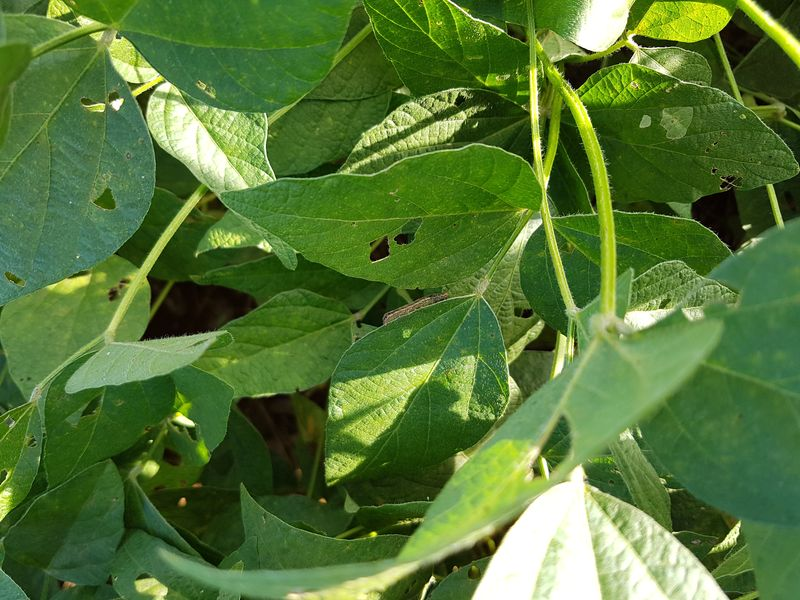Spodoptera_albula: (377, 282, 459, 330)
